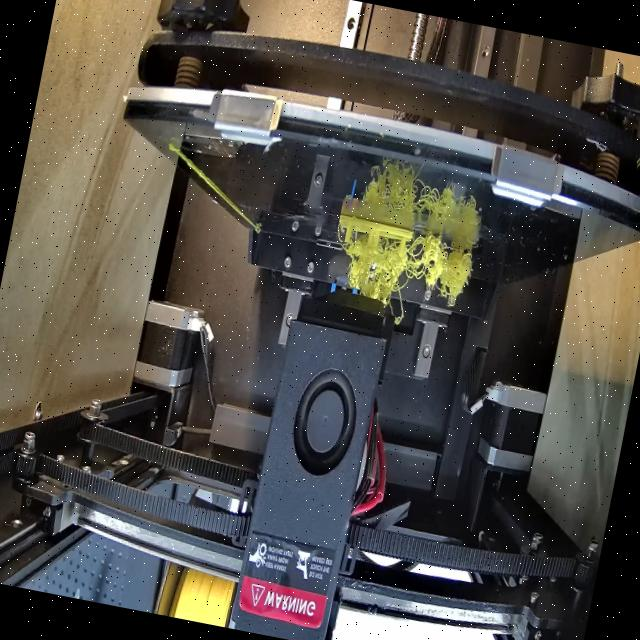spaghetti: (334, 230, 470, 336)
